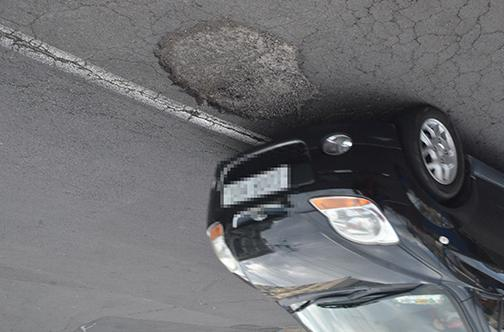pothole: (150, 17, 339, 156)
